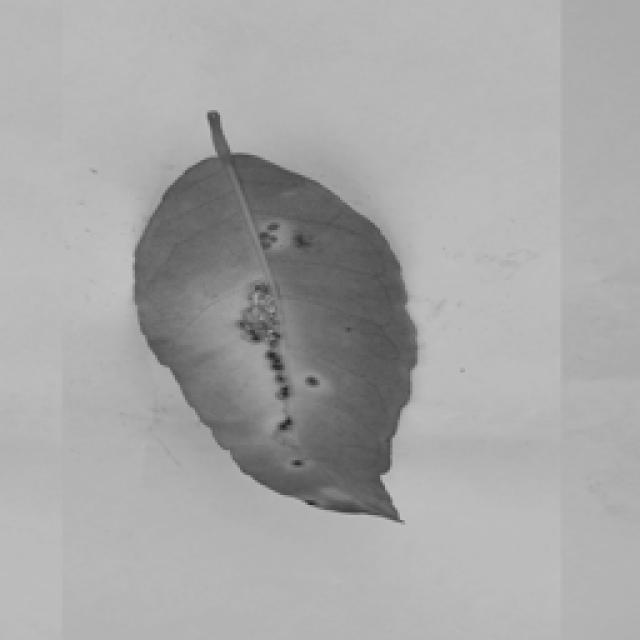canker: (183, 200, 380, 484)
